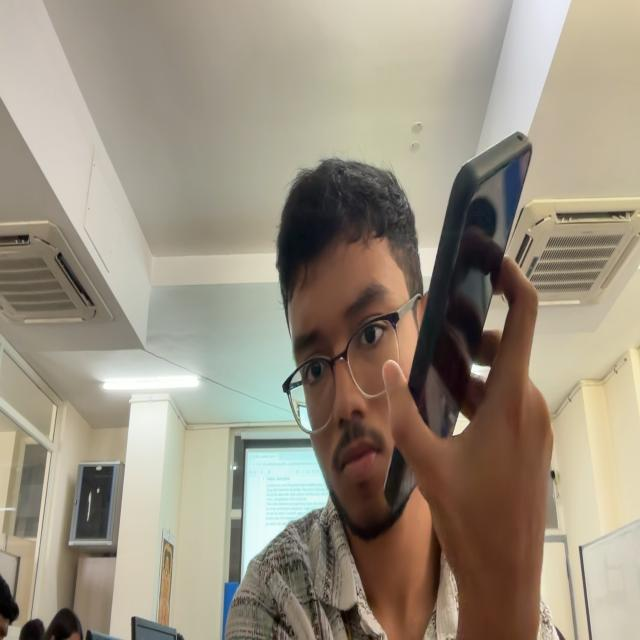Useful: (408, 132, 531, 437), (384, 447, 416, 510)
